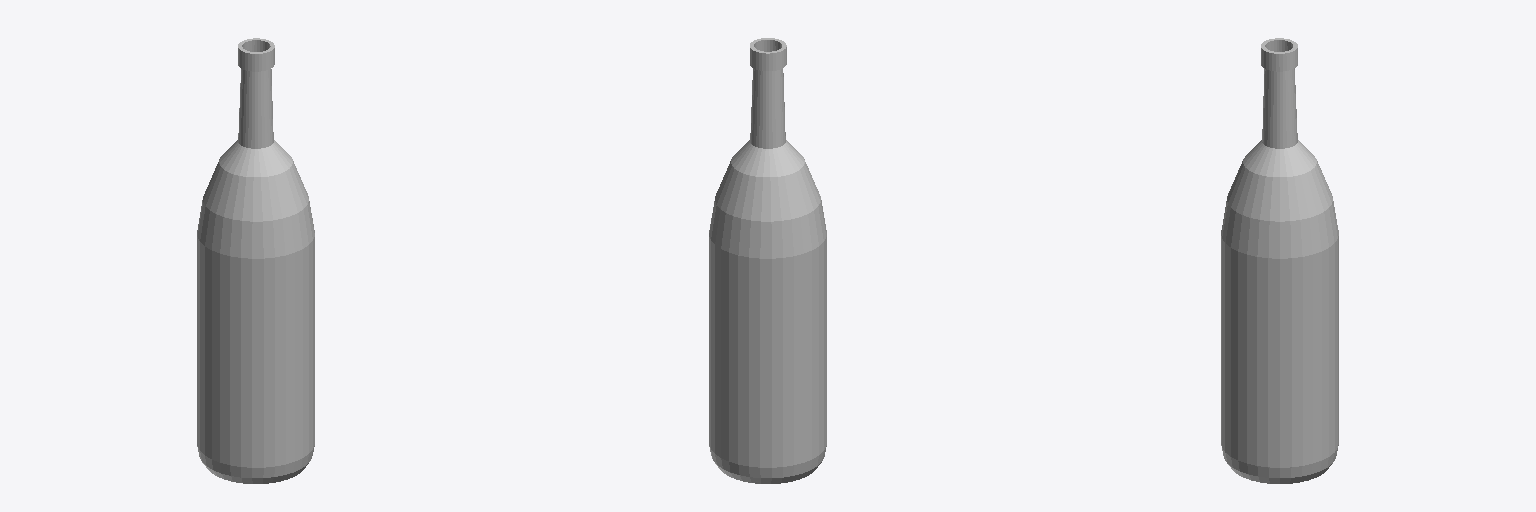
File: bottle.obj
The picture shows the model from 3 angles: view 1: azimuth 30°, elevation 25°; view 2: azimuth 150°, elevation 25°; view 3: azimuth 270°, elevation 25°; orthographic projection.
Visible parts, largest first — view 1: Bottle; view 2: Bottle; view 3: Bottle.
Boxes of the visible parts, x1=… form: Bottle: x1=197, y1=38, x2=314, y2=483; Bottle: x1=709, y1=38, x2=826, y2=483; Bottle: x1=1221, y1=38, x2=1338, y2=483.
Bounding box in the file's own units: 1.34 × 5.26 × 1.34.